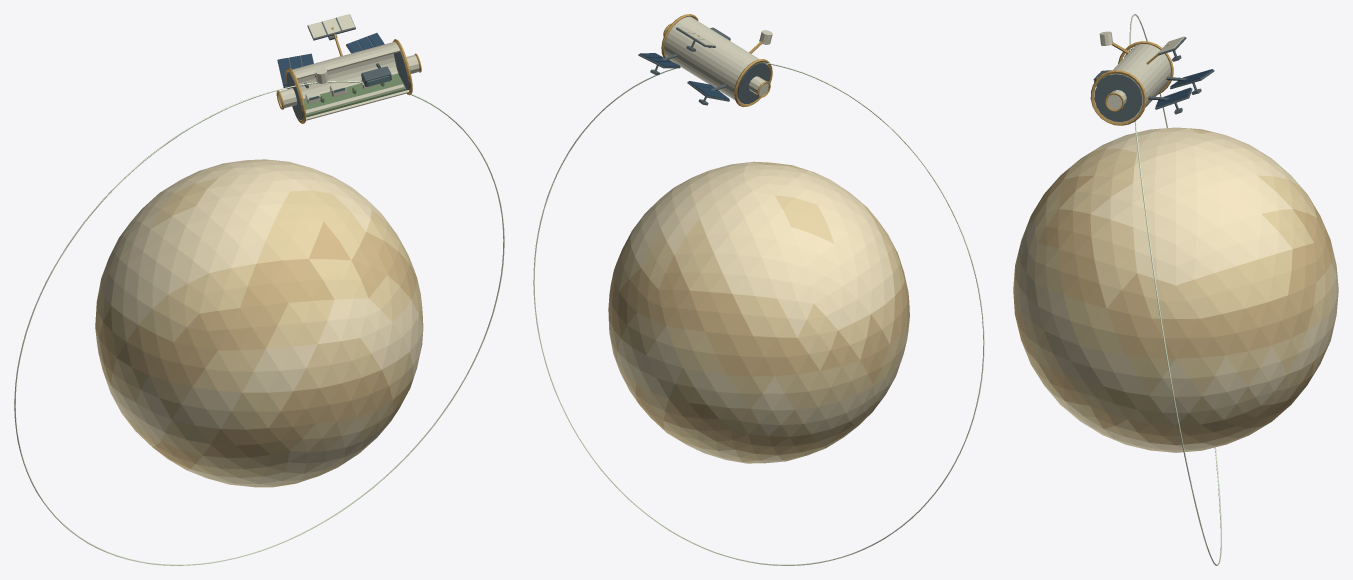
File: Venus.glb
3 renders of one model, left to right at view 1: azimuth 30°, elevation 25°; view 2: azimuth 150°, elevation 25°; view 3: azimuth 270°, elevation 25°, orthographic. The views are drawn at different scales.
Visible parts, largest first — view 1: S1_Venus • modeled surfaces; view 2: S1_Venus • modeled surfaces; view 3: S1_Venus • modeled surfaces.
Part boxes in pixels (left/top/right/bottom): S1_Venus • modeled surfaces: left=14, top=14, right=504, bottom=565; S1_Venus • modeled surfaces: left=533, top=14, right=984, bottom=565; S1_Venus • modeled surfaces: left=1013, top=14, right=1338, bottom=565.
Size of the model in its own units: 2.81 by 2.98 by 1.64.
